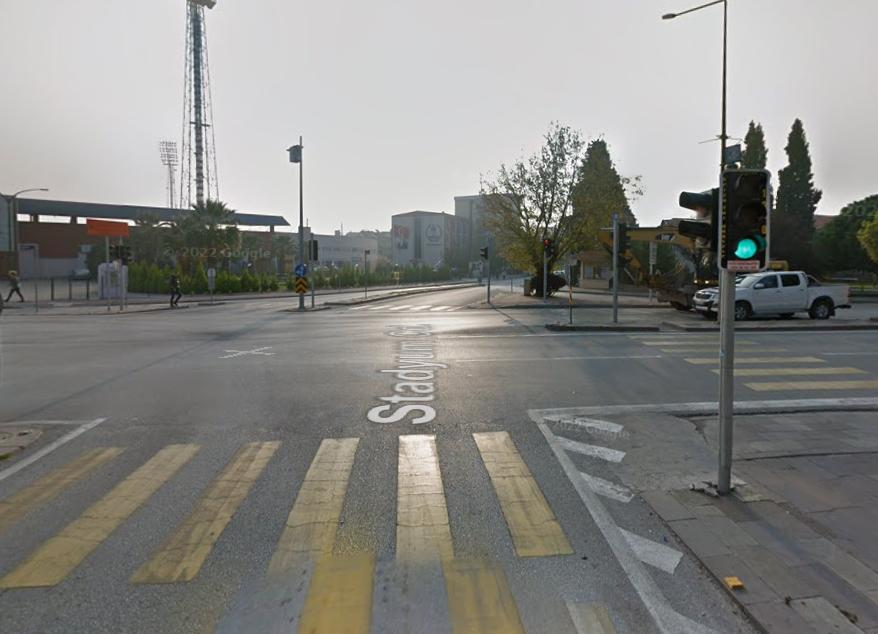greenlight: (725, 175, 765, 271)
redlight: (545, 236, 552, 256)
